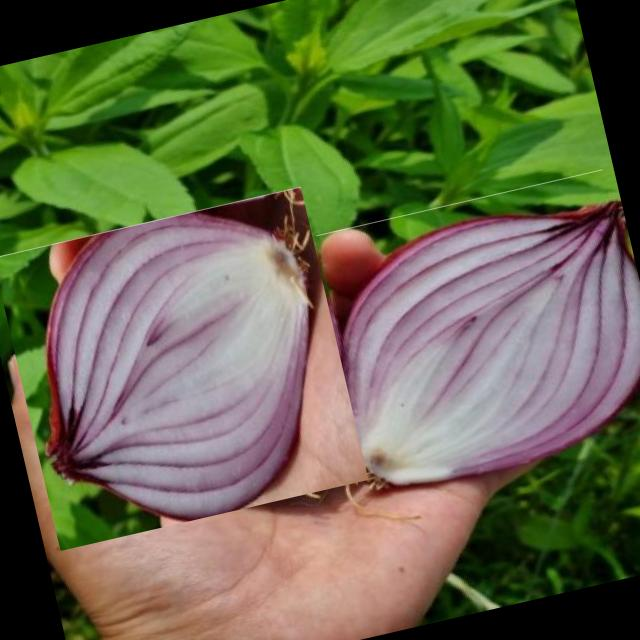Onion: (0, 183, 366, 553), (315, 168, 640, 504)
